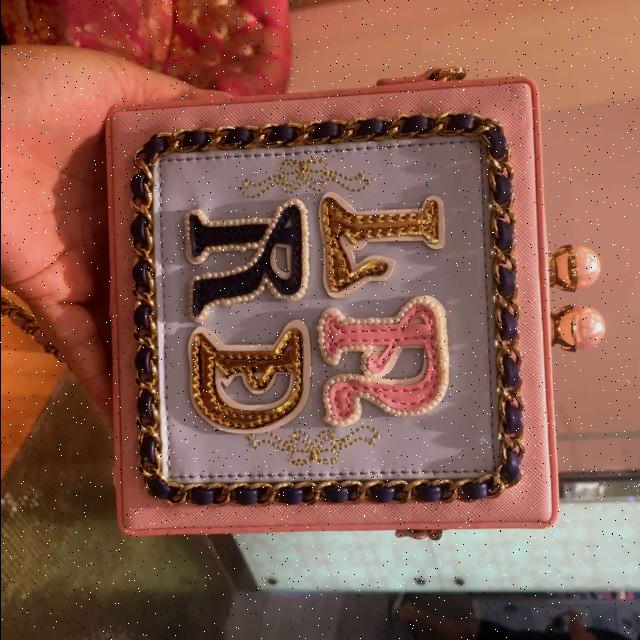Handbag: (106, 78, 558, 540)
